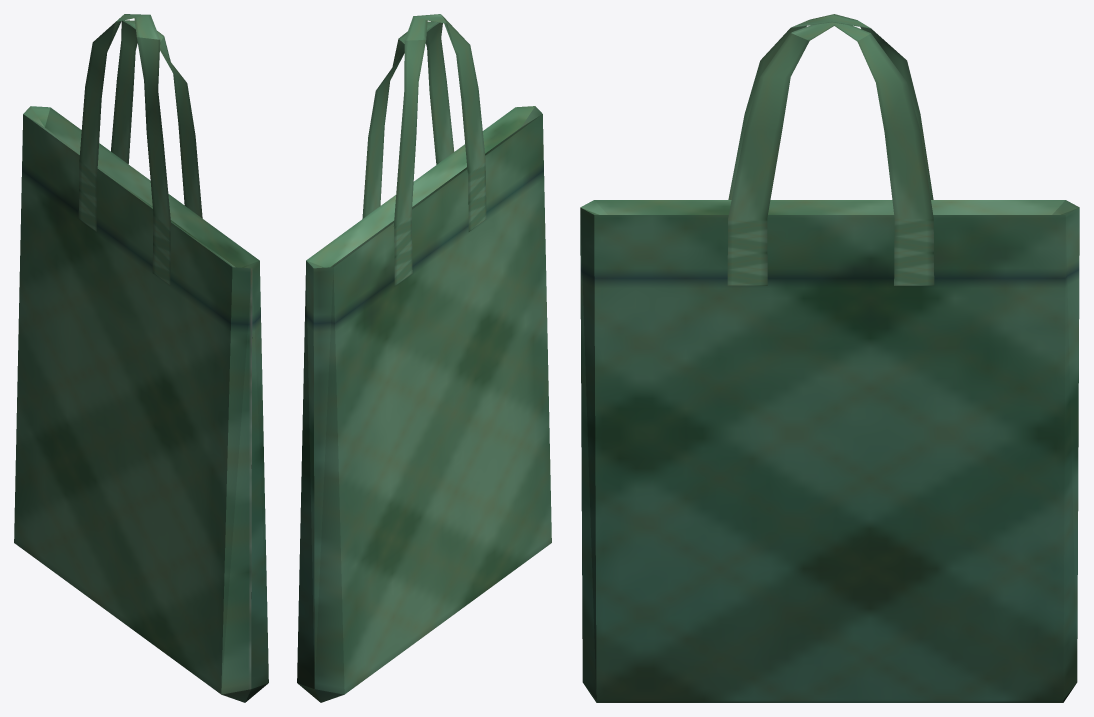
Rendered from bag_typeB3.FBX.
The picture shows the model from 3 angles, left to right: view 1: azimuth 30°, elevation 25°; view 2: azimuth 150°, elevation 25°; view 3: azimuth 270°, elevation 25°; orthographic projection. The views are drawn at different scales.
Parts seen in each view (by area): view 1: bag_typeB3; view 2: bag_typeB3; view 3: bag_typeB3.
Part boxes in pixels (x1,y1,x2,y2): bag_typeB3: (14, 14, 268, 702); bag_typeB3: (297, 14, 551, 702); bag_typeB3: (580, 14, 1079, 702).
Bounding box in the file's own units: 3.46 × 42.36 × 27.94.
